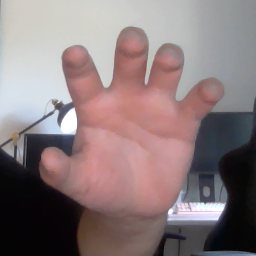AE: (35, 26, 226, 219)
